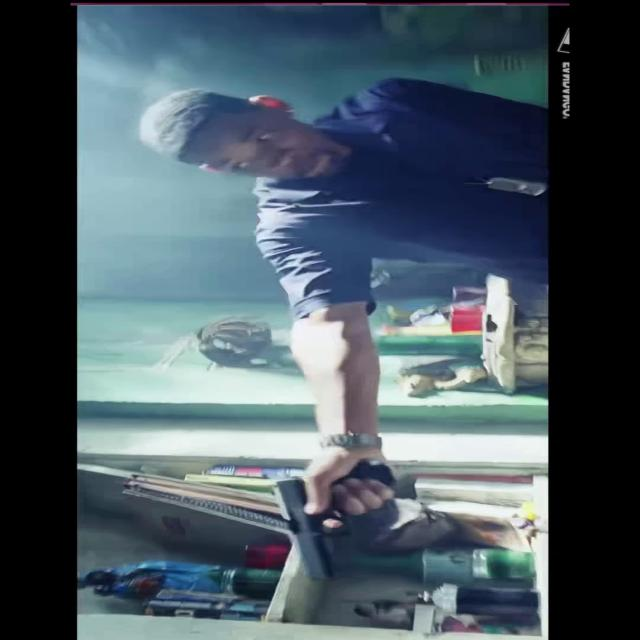weapons: (252, 447, 412, 581)
